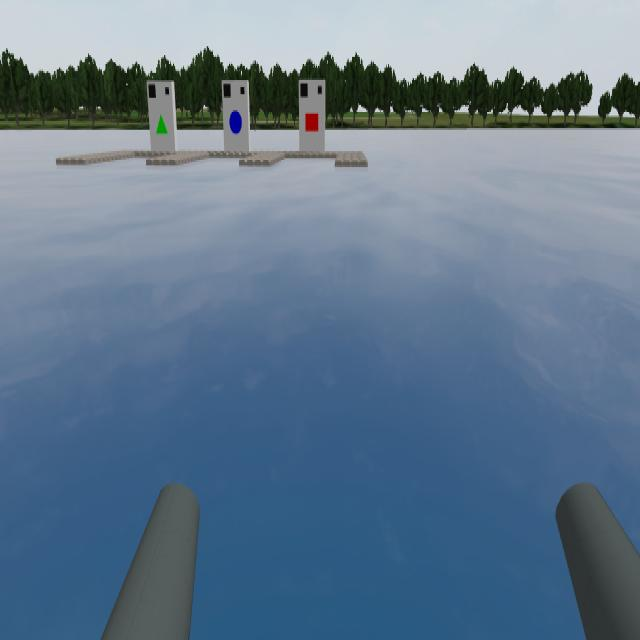dock: (300, 79, 326, 157), (222, 81, 248, 151), (149, 82, 173, 153)
